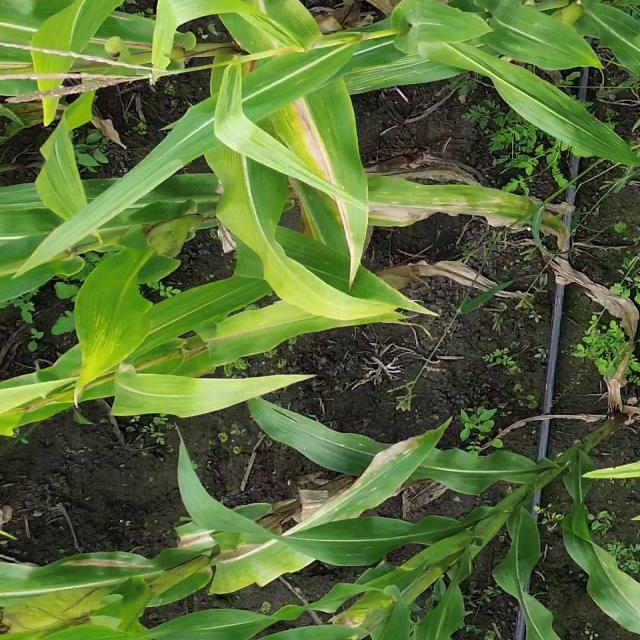gray-leaf-spot: (306, 426, 460, 526)
northern-leaf-blight: (351, 165, 585, 248), (272, 92, 364, 254), (59, 542, 180, 584)
